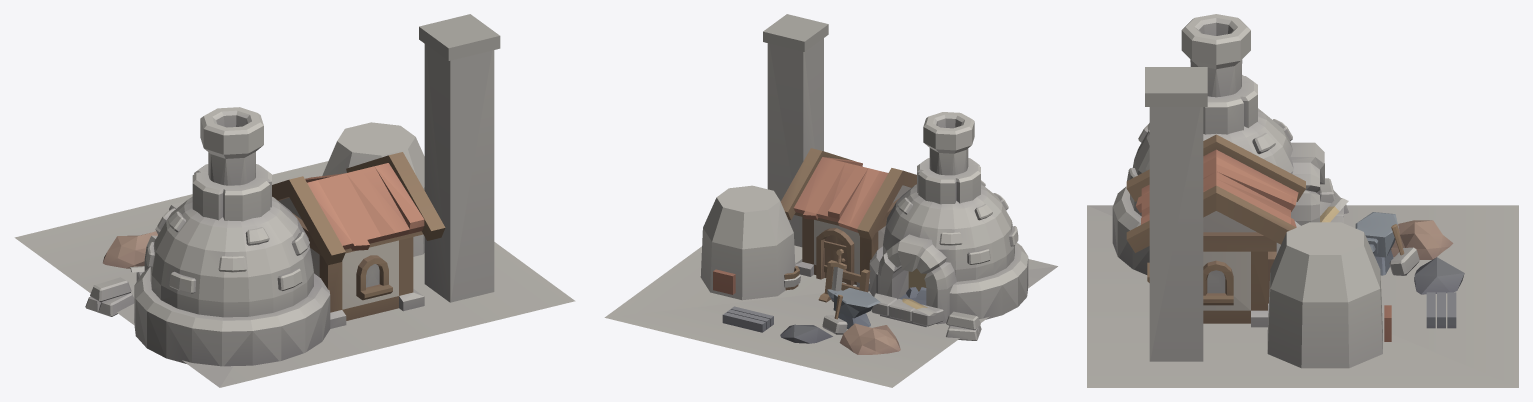
File: smelter.glb
The picture shows the model from 3 angles, left to right: view 1: azimuth 30°, elevation 25°; view 2: azimuth 150°, elevation 25°; view 3: azimuth 270°, elevation 25°; orthographic projection. The views are drawn at different scales.
Parts seen in each view (by area): view 1: smelter; view 2: smelter; view 3: smelter.
Boxes of the visible parts, box(x1,y1,x2,y2) form: smelter: box(14, 14, 575, 387); smelter: box(604, 14, 1057, 387); smelter: box(1087, 14, 1518, 387).
Size of the model in its own units: 3.04 by 2.23 by 2.9.
